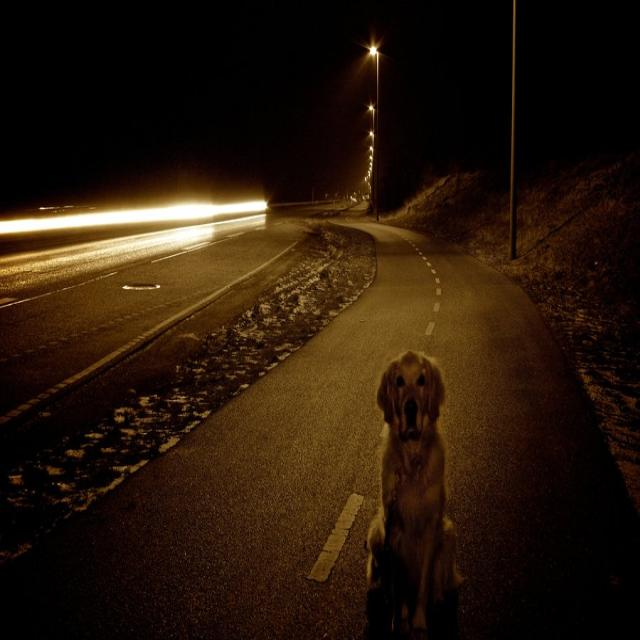dog: (333, 292, 508, 640)
